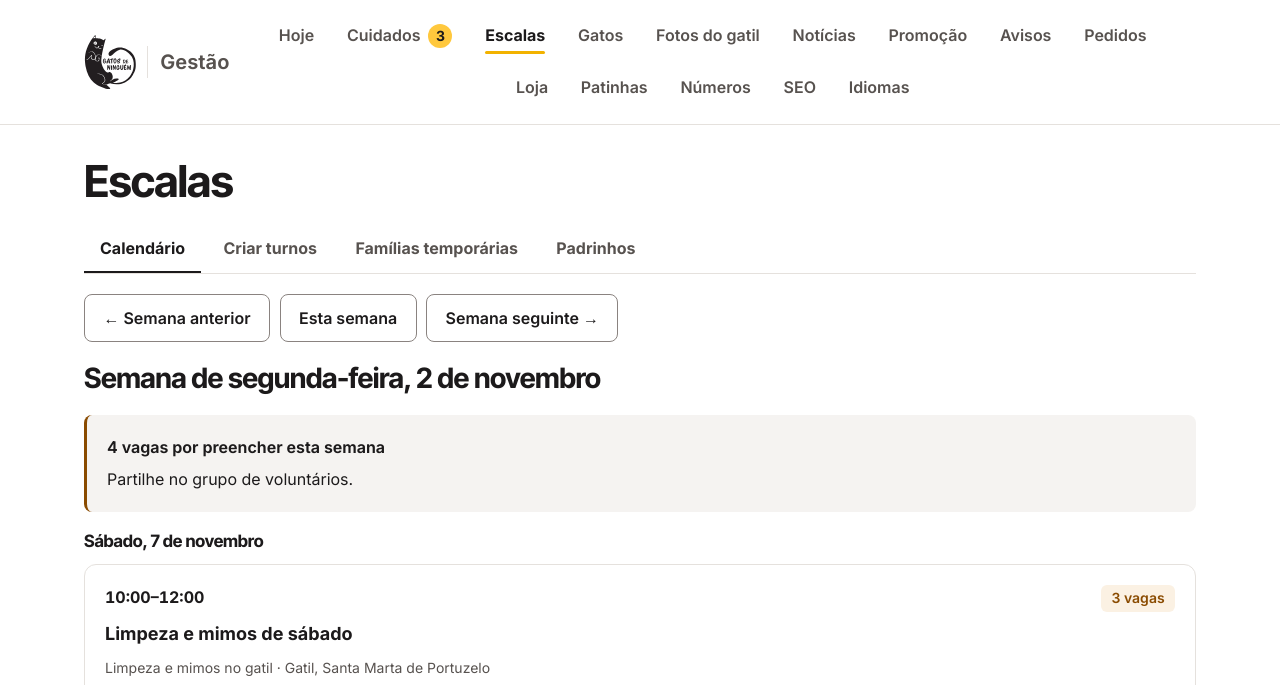
Scenario: Escalas › flags godparents waiting for news
This screenshot has width=1280, height=685.
Click the tab "Padrinhos" at (596, 249), box [540, 225, 652, 273]
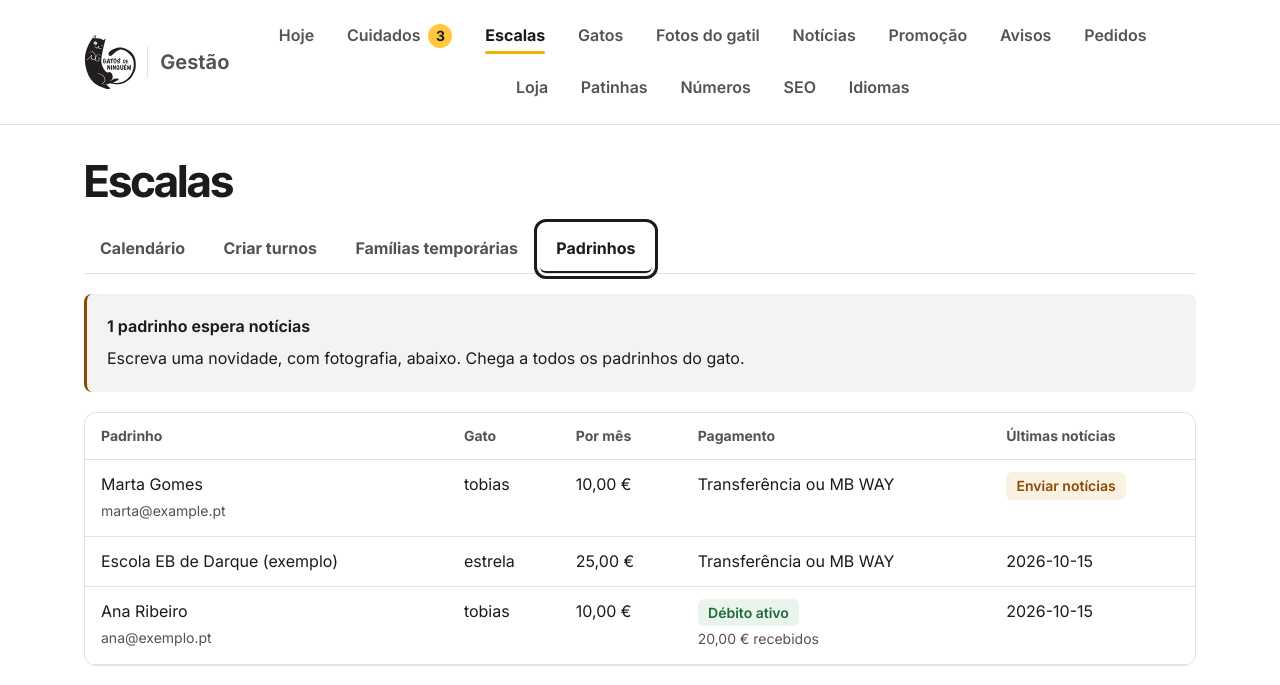
Result: the text "1 padrinho espera notícias" is shown at [107, 316, 310, 336]
